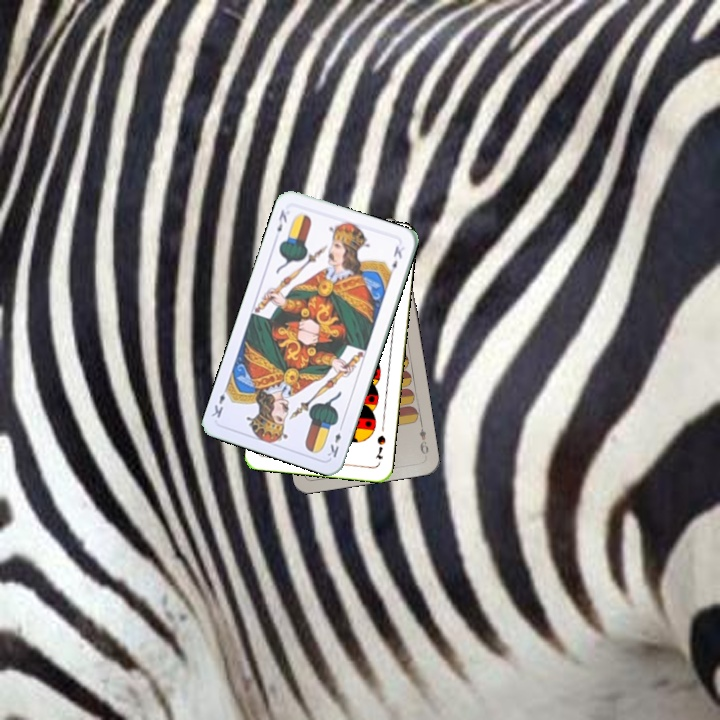E9: (416, 419, 431, 457)
EK: (323, 420, 346, 460), (271, 206, 290, 242)
S7: (371, 431, 388, 462)
